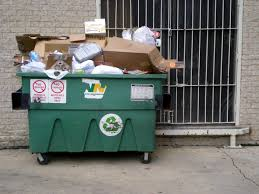Dumpster: (8, 64, 186, 172)
